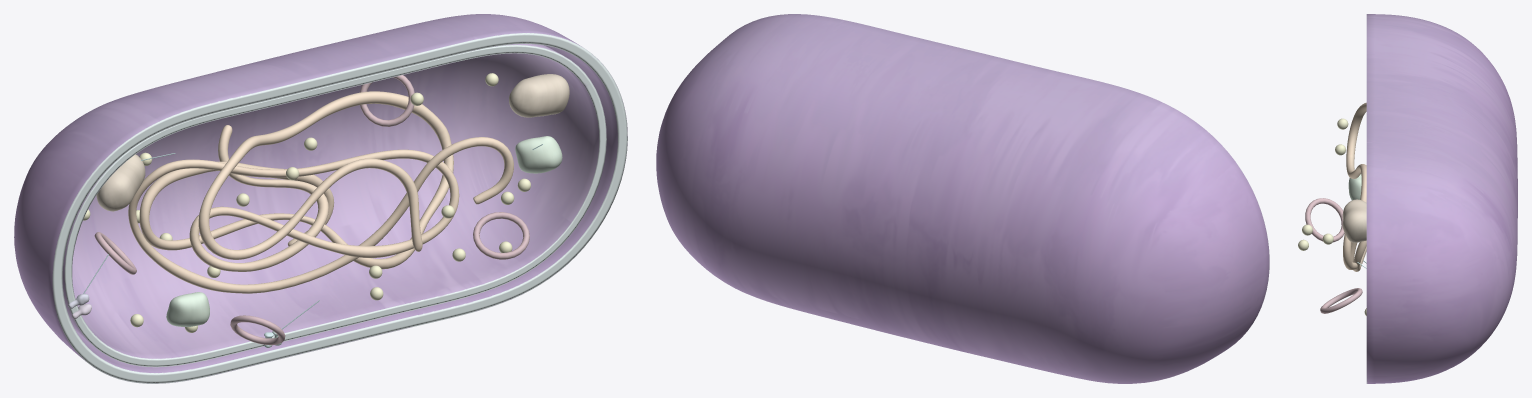
The model's file is Bact_05.glb.
3 renders of one model, left to right at view 1: azimuth 30°, elevation 25°; view 2: azimuth 150°, elevation 25°; view 3: azimuth 270°, elevation 25°, orthographic. The views are drawn at different scales.
Visible parts, largest first — view 1: Object001, Capsule003, PM3D_Cube3D2_1, PM3D_Cube3D1_1, PM3D_Cube3D1_006, PM3D_Cube3D1_005, PM3D_Cube3D1_2, Torus008, Torus006, Torus007, Torus003; view 2: Capsule003; view 3: Capsule003, PM3D_Cube3D2_1, PM3D_Cube3D1_1, Torus006, Torus008, PM3D_Cube3D1_2.
Part boxes in pixels (<box>): Object001: <box>62,44,606,367</box>; Capsule003: <box>14,14,627,383</box>; PM3D_Cube3D2_1: <box>128,91,513,293</box>; PM3D_Cube3D1_1: <box>509,74,569,117</box>; PM3D_Cube3D1_006: <box>96,154,145,211</box>; PM3D_Cube3D1_005: <box>515,136,562,173</box>; PM3D_Cube3D1_2: <box>166,292,209,326</box>; Torus008: <box>473,212,529,259</box>; Torus006: <box>230,315,285,345</box>; Torus007: <box>360,75,414,126</box>; Torus003: <box>94,232,136,274</box>; Capsule003: <box>656,14,1269,383</box>; Capsule003: <box>1366,14,1517,383</box>; PM3D_Cube3D2_1: <box>1343,102,1366,271</box>; PM3D_Cube3D1_1: <box>1342,199,1366,242</box>; Torus006: <box>1305,198,1344,242</box>; Torus008: <box>1320,288,1362,313</box>; PM3D_Cube3D1_2: <box>1348,174,1361,200</box>.
Size of the model in its own units: 8.82 by 4 by 3.53.
10 materials, 9 textured.
